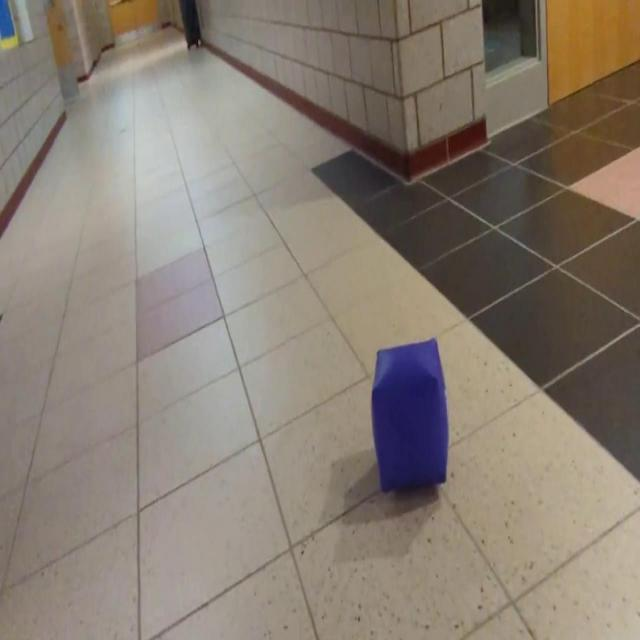frc_cube: (372, 337, 449, 489)
